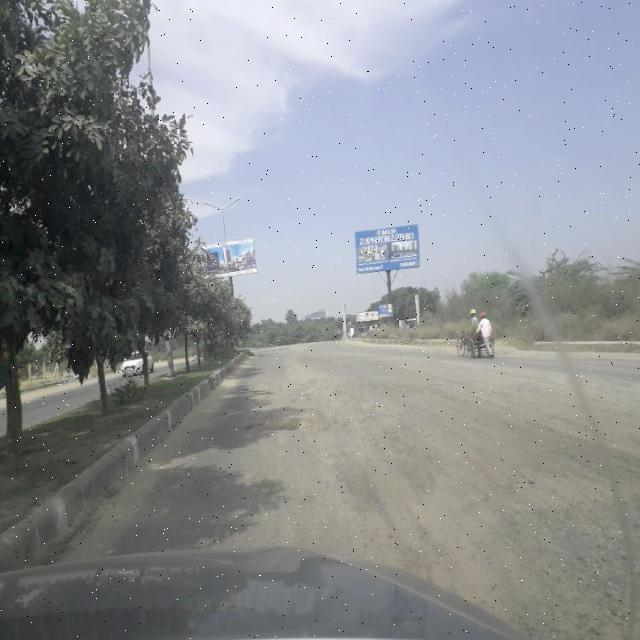D40: (233, 401, 366, 441)
